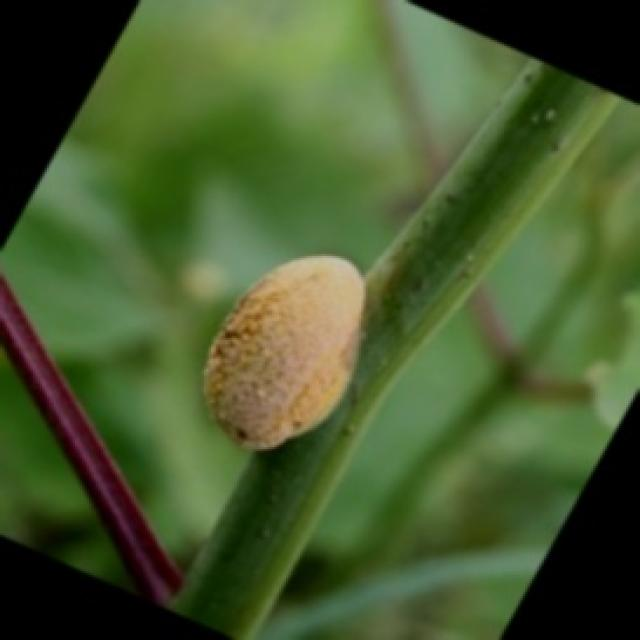Elderberry_rust: (183, 276, 411, 442)
